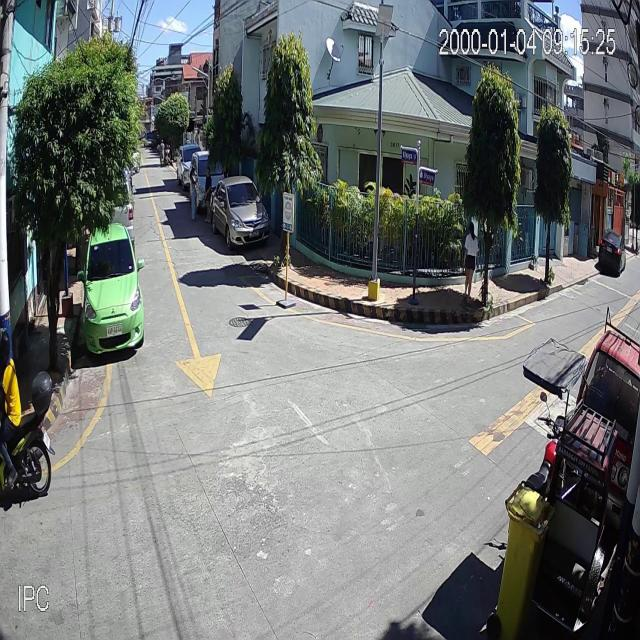standing: (188, 166, 201, 221), (202, 166, 213, 223)
walking: (462, 220, 479, 307), (159, 139, 166, 165)
